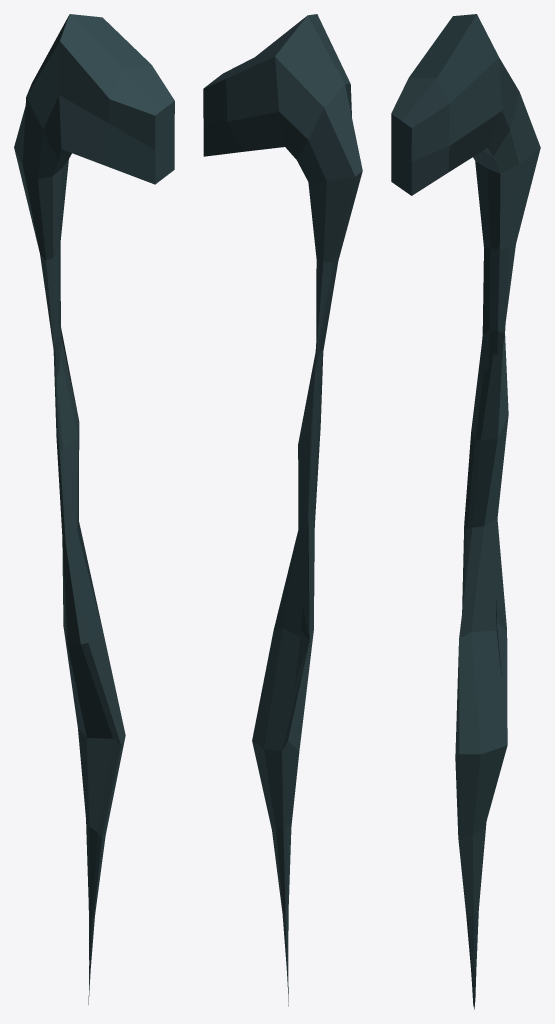
Rendered from Vine_3.fbx.
3 renders of one model, left to right at view 1: azimuth 30°, elevation 25°; view 2: azimuth 210°, elevation 25°; view 3: azimuth 270°, elevation 25°, orthographic.
Visible parts, largest first — view 1: Vine 3; view 2: Vine 3; view 3: Vine 3.
Boxes of the visible parts, left/top/right/bottom form: Vine 3: left=14, top=14, right=174, bottom=1004; Vine 3: left=203, top=14, right=362, bottom=1006; Vine 3: left=391, top=14, right=540, bottom=1009.
Bounding box in the file's own units: 506 × 4308 × 592.
